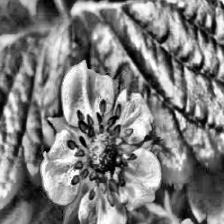Blossom Blight: (66, 99, 138, 208)
